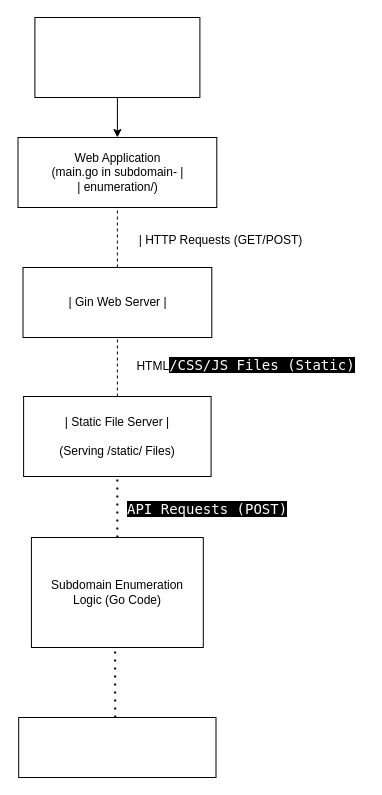
The diagram is 382 pixels wide and 795 high, and some of its shapes have lost their labels. The shapes that lost their labels are listed below. From the top down, each one's centre as x and y in pixels, then its label:
At (x=117, y=57): "User Browser".
At (x=117, y=747): "DNS Resolver (net.Resolver)".
